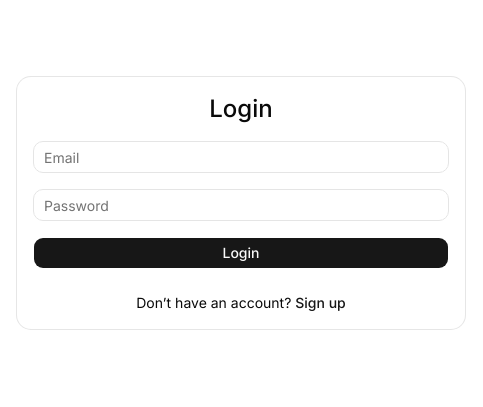
Scenario: AuthForm › shows required validation for email, password, and display_name in signup mode
The image size is (483, 407).
What coordinates should you click on to do the following:
click the button "Sign up"
I would click on:
 (321, 303)
Its box is [295,293,346,313].
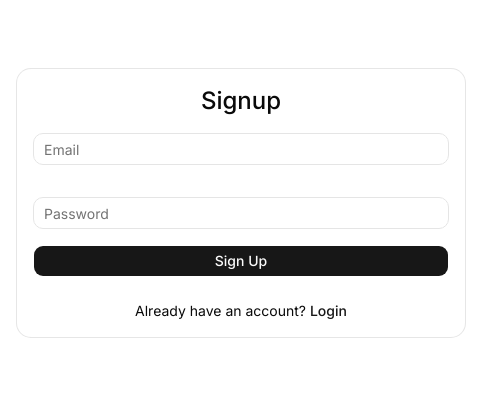
What coordinates should you click on to do the following:
click the button "Sign Up"
I would click on:
 (241, 261)
Its box is [33,245,449,277].
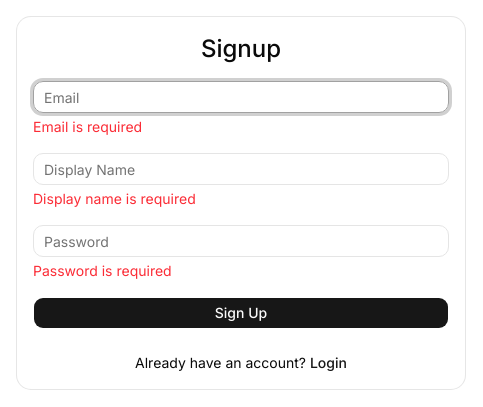
Result: the text "Email is required" is shown at [33,118,142,135]
Result: the text "Display name is required" is shown at [33,190,196,207]
Result: the text "Password is required" is shown at [33,262,172,279]
